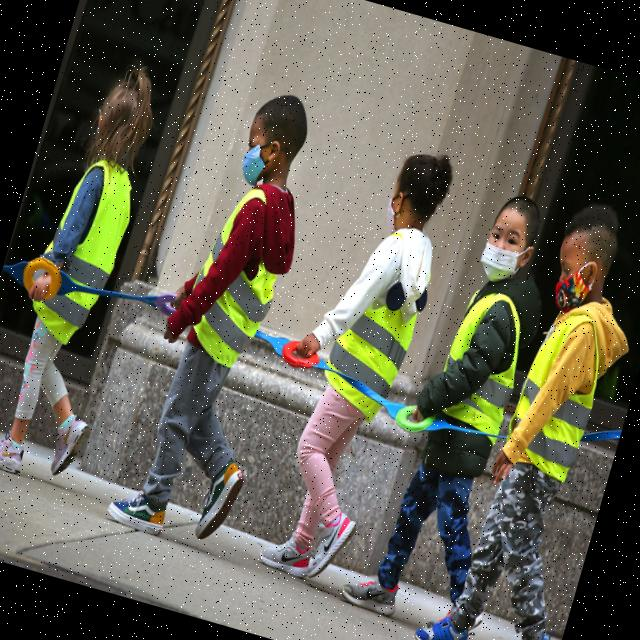Person: (104, 76, 350, 552), (338, 177, 572, 632), (408, 183, 640, 640), (237, 132, 460, 590), (0, 59, 186, 489)
